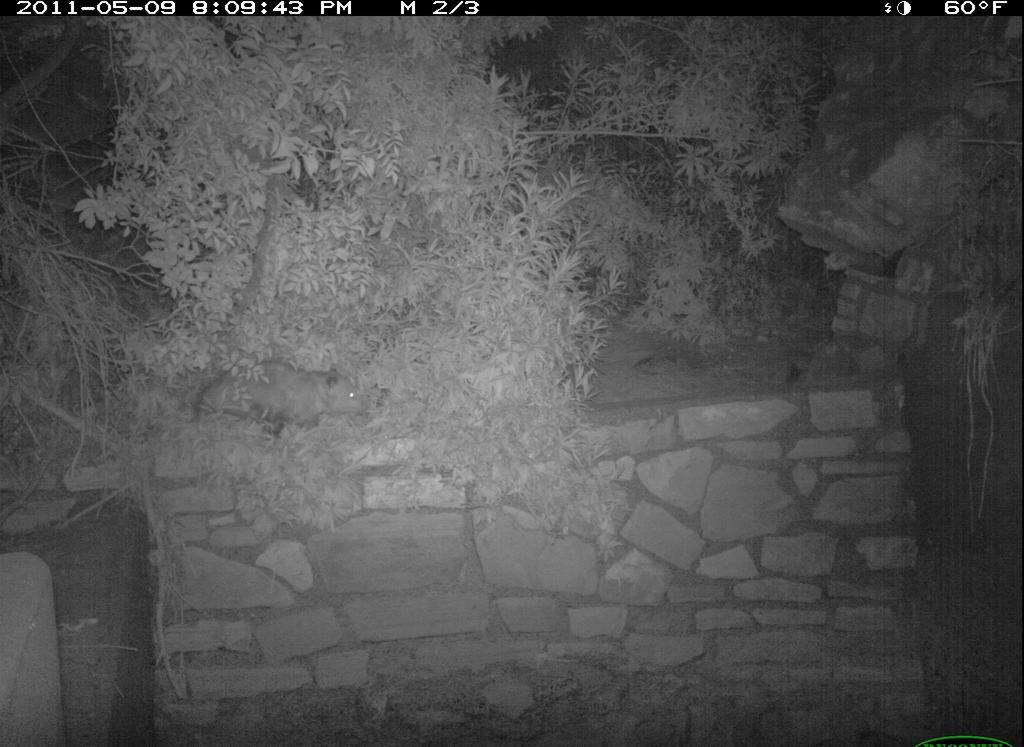opossum: (164, 349, 401, 459)
